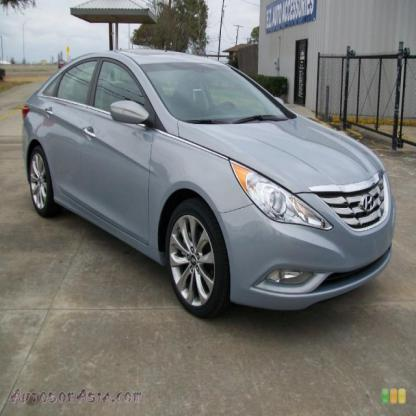Vehicle: (19, 47, 395, 319)
